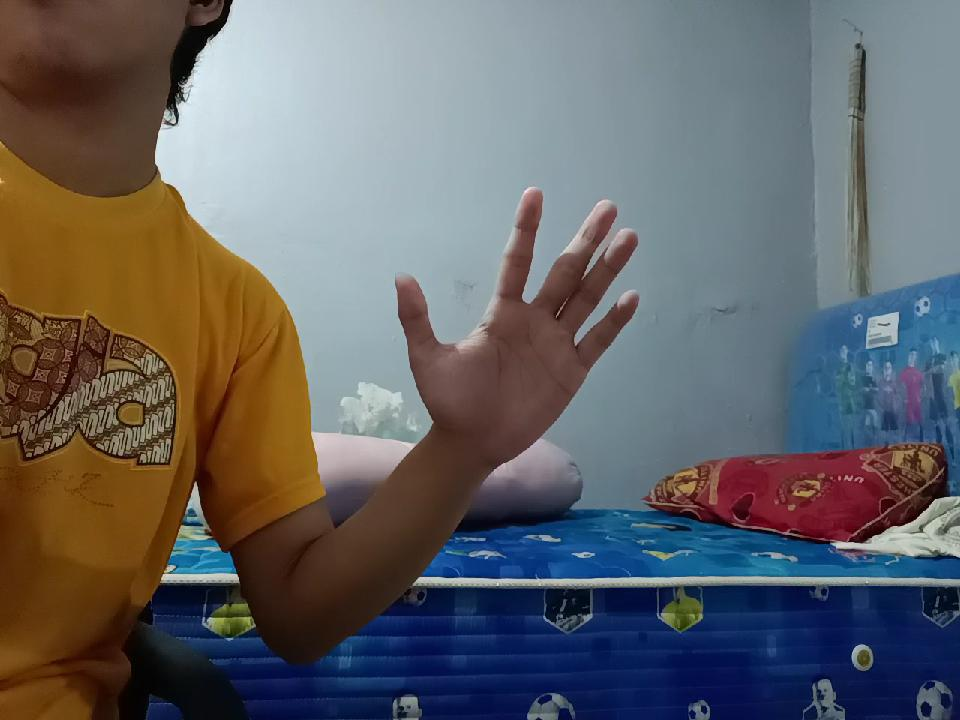paper: (359, 166, 653, 472)
